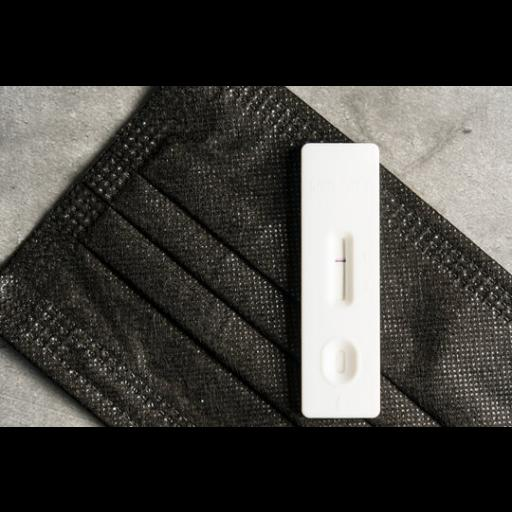Neg: (300, 141, 380, 415)
